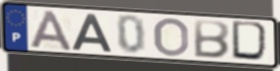0: (115, 14, 148, 56)
A: (28, 9, 74, 52), (70, 13, 114, 53)
B: (192, 18, 232, 60)
D: (231, 19, 273, 64)
O: (153, 16, 191, 58)
